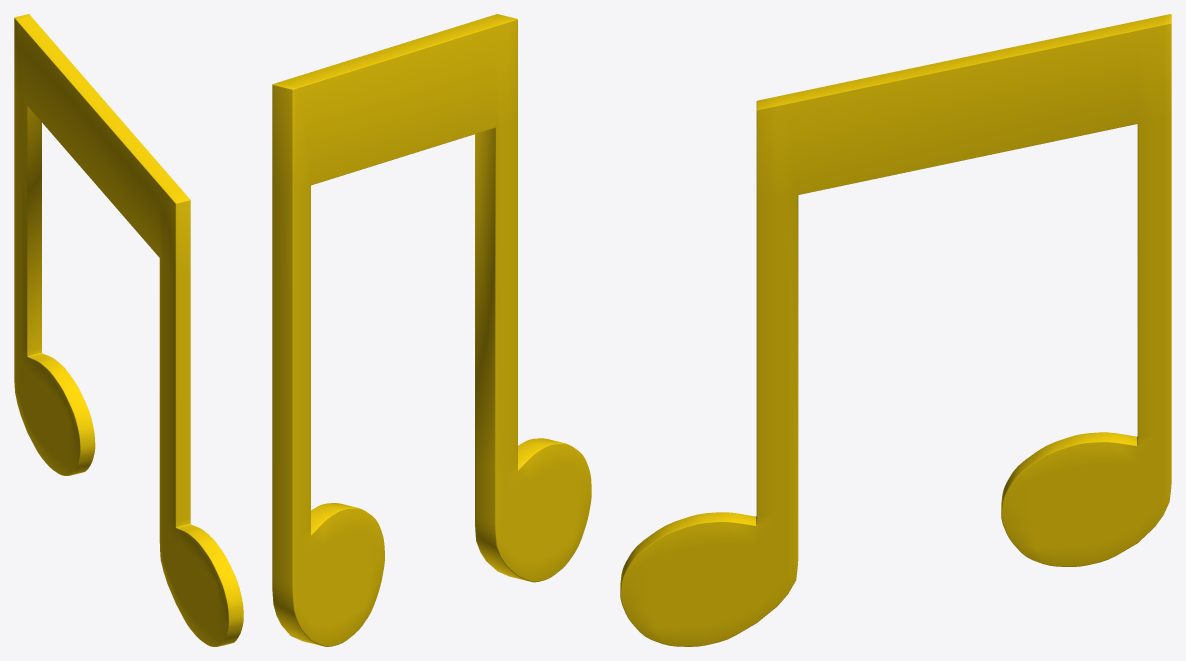
The model's file is musicNotes_01.fbx.
3 renders of one model, left to right at view 1: azimuth 30°, elevation 25°; view 2: azimuth 150°, elevation 25°; view 3: azimuth 270°, elevation 25°, orthographic. The views are drawn at different scales.
Parts seen in each view (by area): view 1: Cube; view 2: Cube; view 3: Cube.
Part boxes in pixels (left/top/right/bottom): Cube: left=14, top=14, right=243, bottom=646; Cube: left=272, top=14, right=591, bottom=646; Cube: left=620, top=14, right=1171, bottom=646.
Size of the model in its own units: 1.83 by 56.25 by 45.03.
